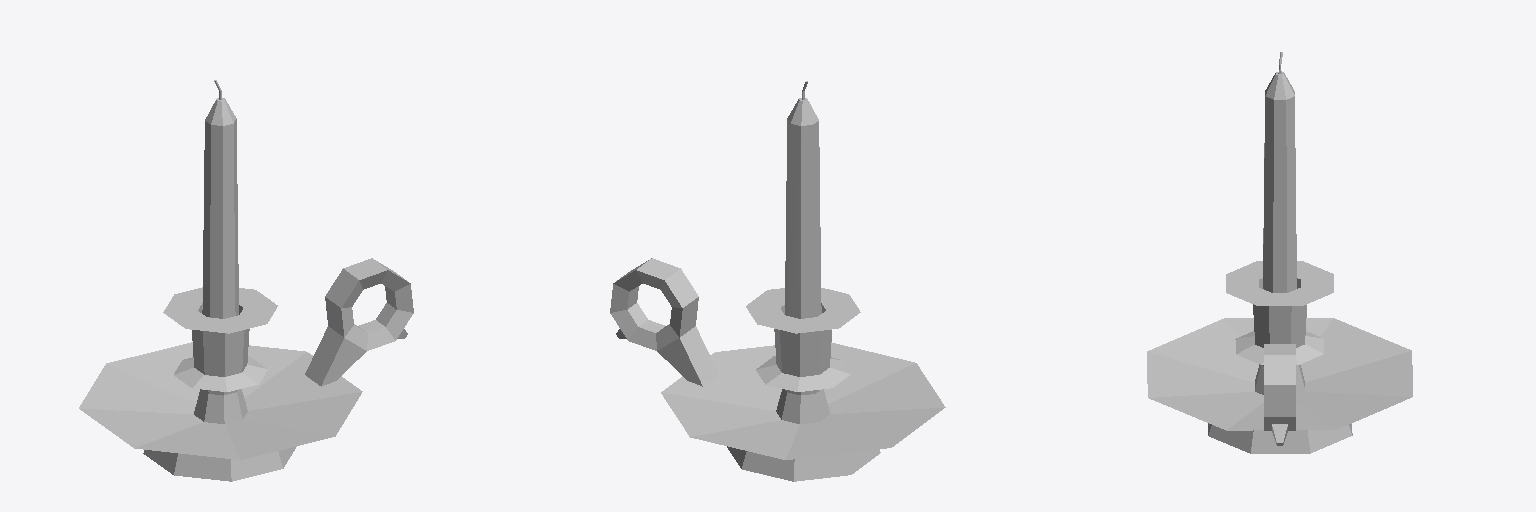
The model's file is candlestickwithgrip02.obj.
The picture shows the model from 3 angles: view 1: azimuth 30°, elevation 25°; view 2: azimuth 150°, elevation 25°; view 3: azimuth 270°, elevation 25°; orthographic projection.
Visible parts, largest first — view 1: Cylinder.001; view 2: Cylinder.001; view 3: Cylinder.001.
Part boxes in pixels (x1,y1,x2,y2): Cylinder.001: (79, 80, 413, 481); Cylinder.001: (610, 81, 945, 481); Cylinder.001: (1147, 52, 1412, 453).
Bounding box in the file's own units: 0.18 × 0.2107 × 0.1379.